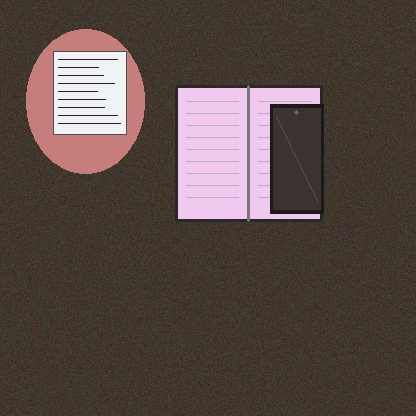book: (176, 86, 321, 220)
cell_phone: (270, 104, 323, 213)
exam_chit: (53, 51, 126, 134)
